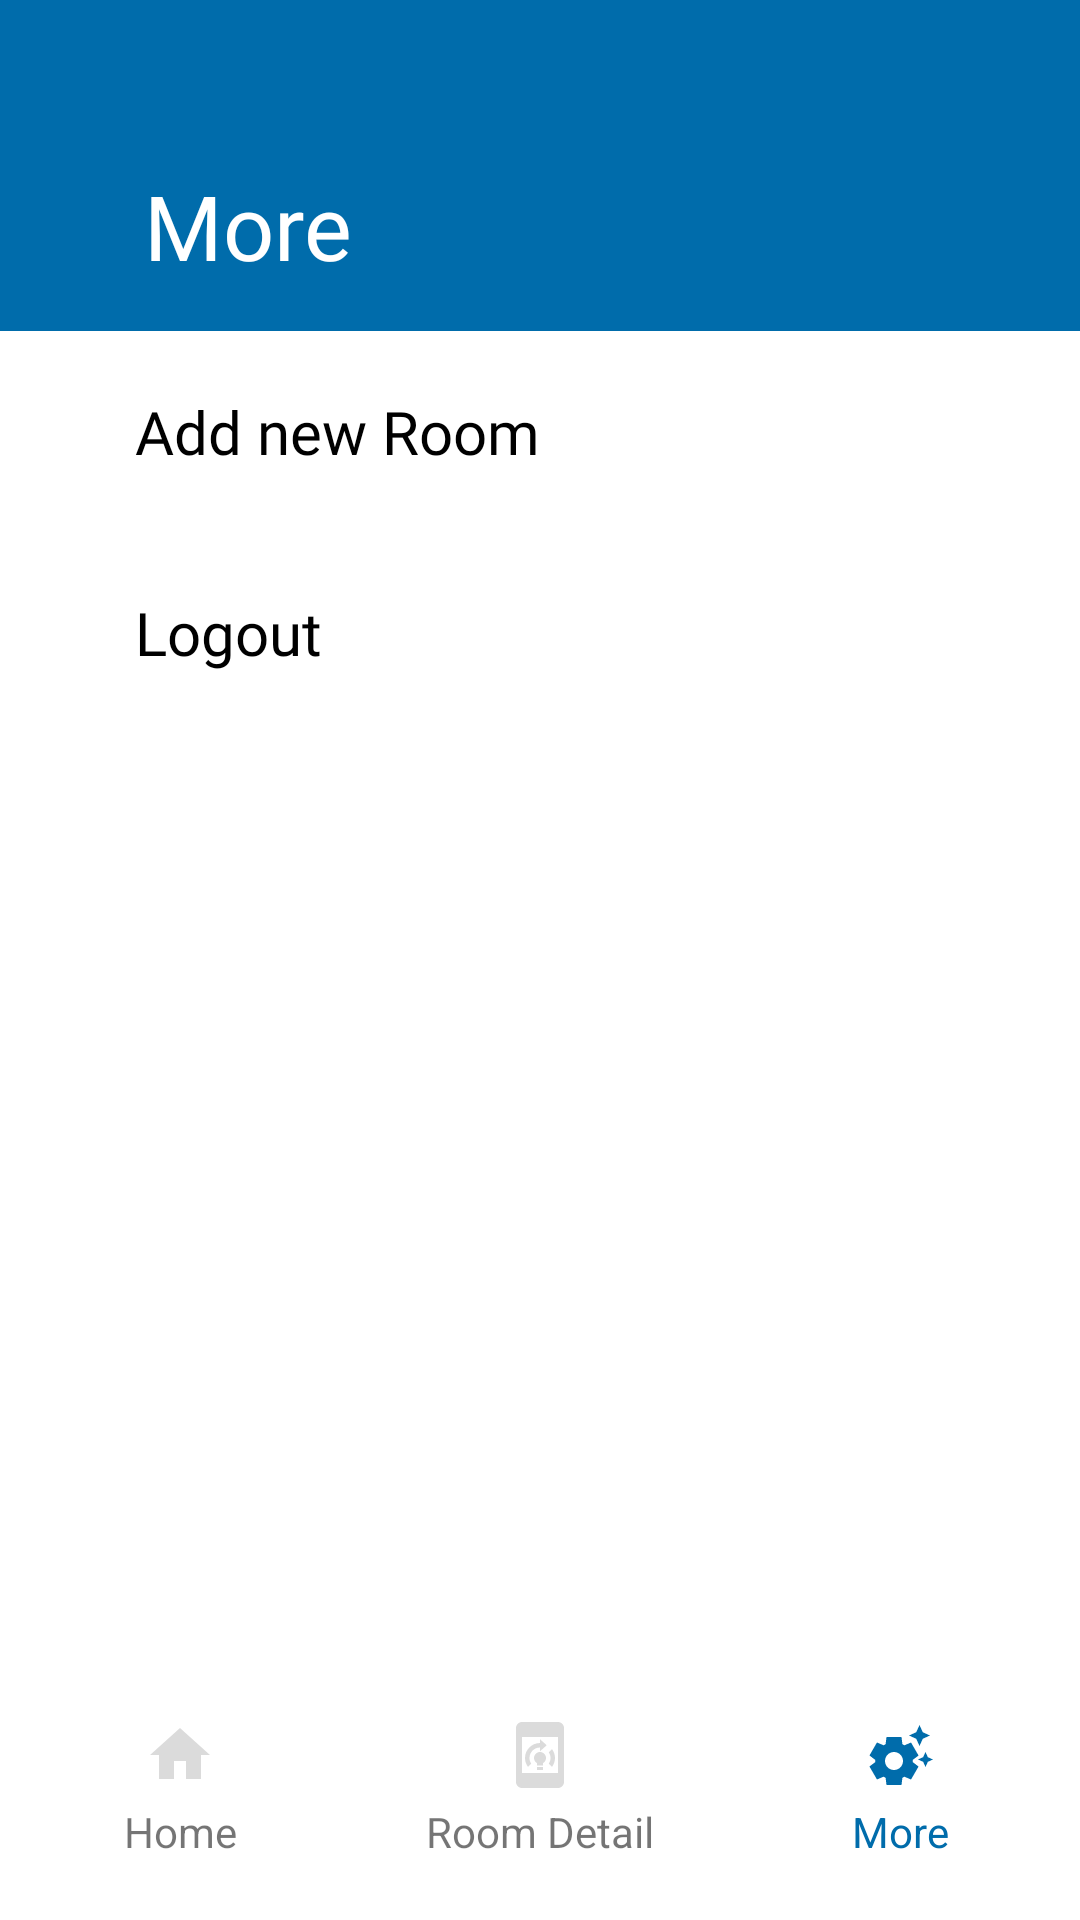

Named icons in this screenshot (1080 x 1920) and their bounding boxes, (x1, y1, x2, y2):
settings suggest: (869, 1725, 933, 1785)
